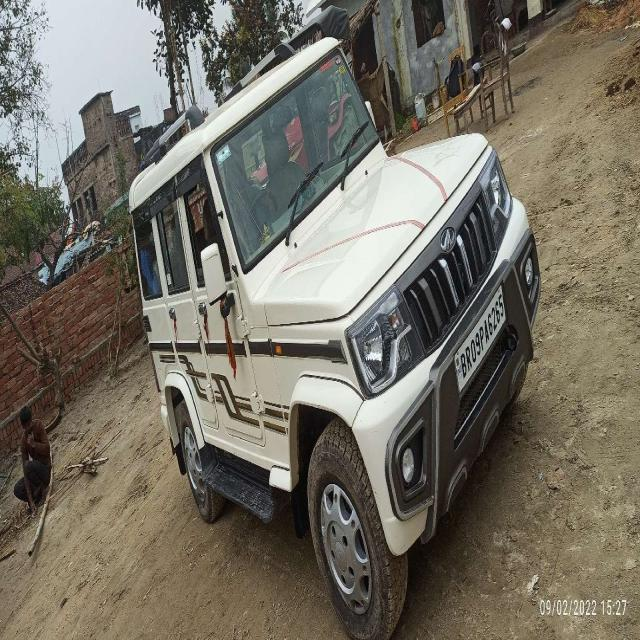light_vehicle: (127, 39, 537, 519)
